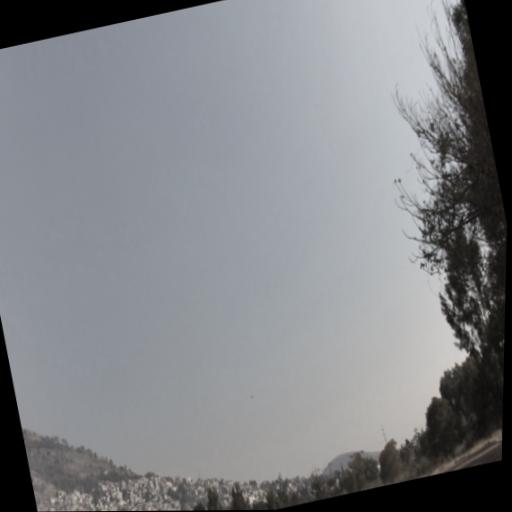drones: (250, 394, 254, 399)
